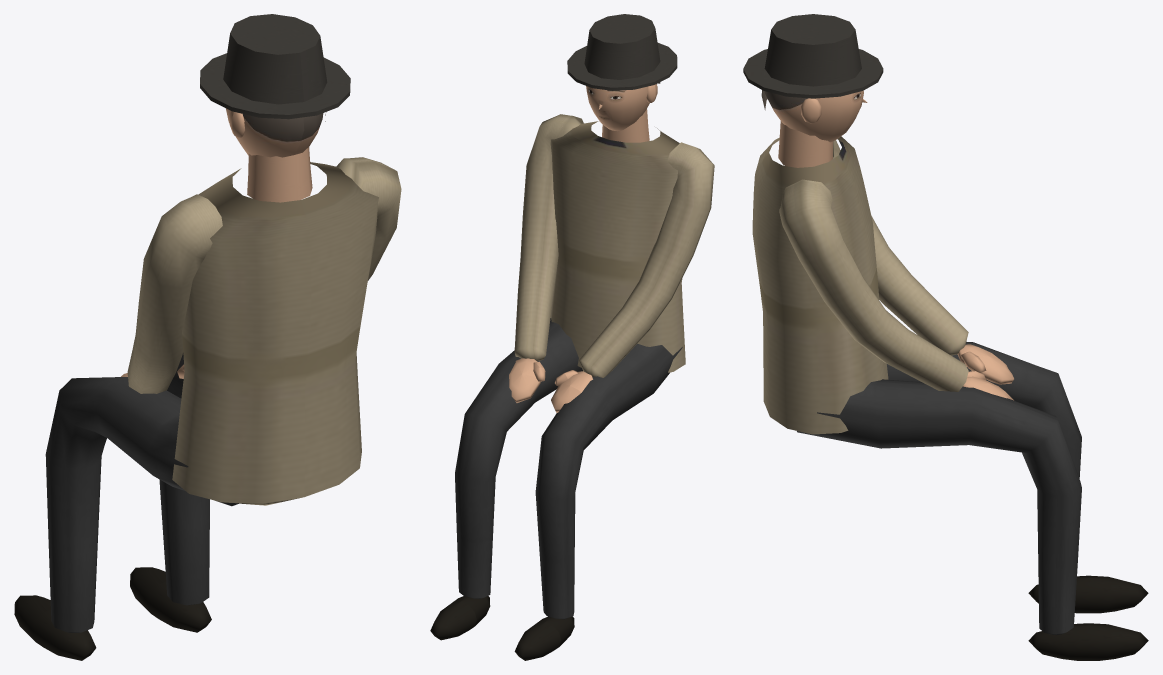
File: hatman.glb
3 views of the same model, side by side, from view 1: azimuth 30°, elevation 25°; view 2: azimuth 150°, elevation 25°; view 3: azimuth 270°, elevation 25° (orthographic). The views are drawn at different scales.
Visible parts, largest first — view 1: Body, HeadMesh; view 2: Body, HeadMesh; view 3: Body, HeadMesh.
Boxes of the visible parts, x1,y1,x2,y2 form: Body: (14,147,401,660); HeadMesh: (200,14,350,157); Body: (430,109,714,660); HeadMesh: (567,14,677,130); Body: (752,121,1148,660); HeadMesh: (743,14,883,142).
Bounding box in the file's own units: 0.508 × 1.41 × 0.8537.
Materials: 1 (1 with a texture image).
